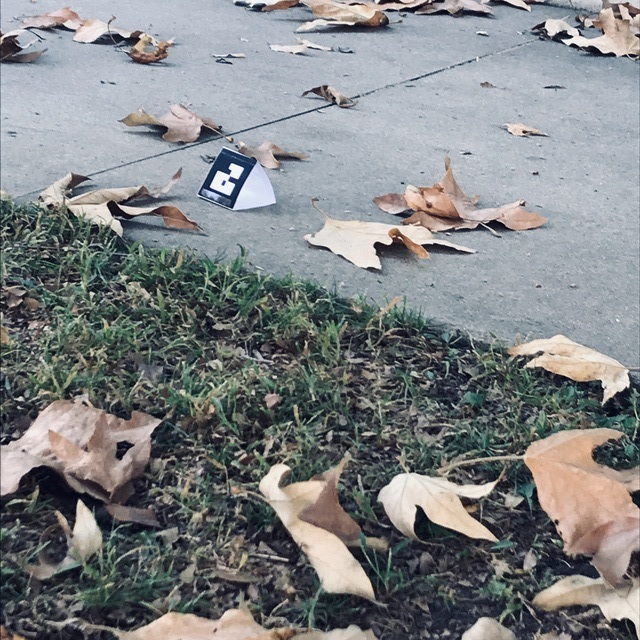ARTag: (196, 146, 278, 212)
